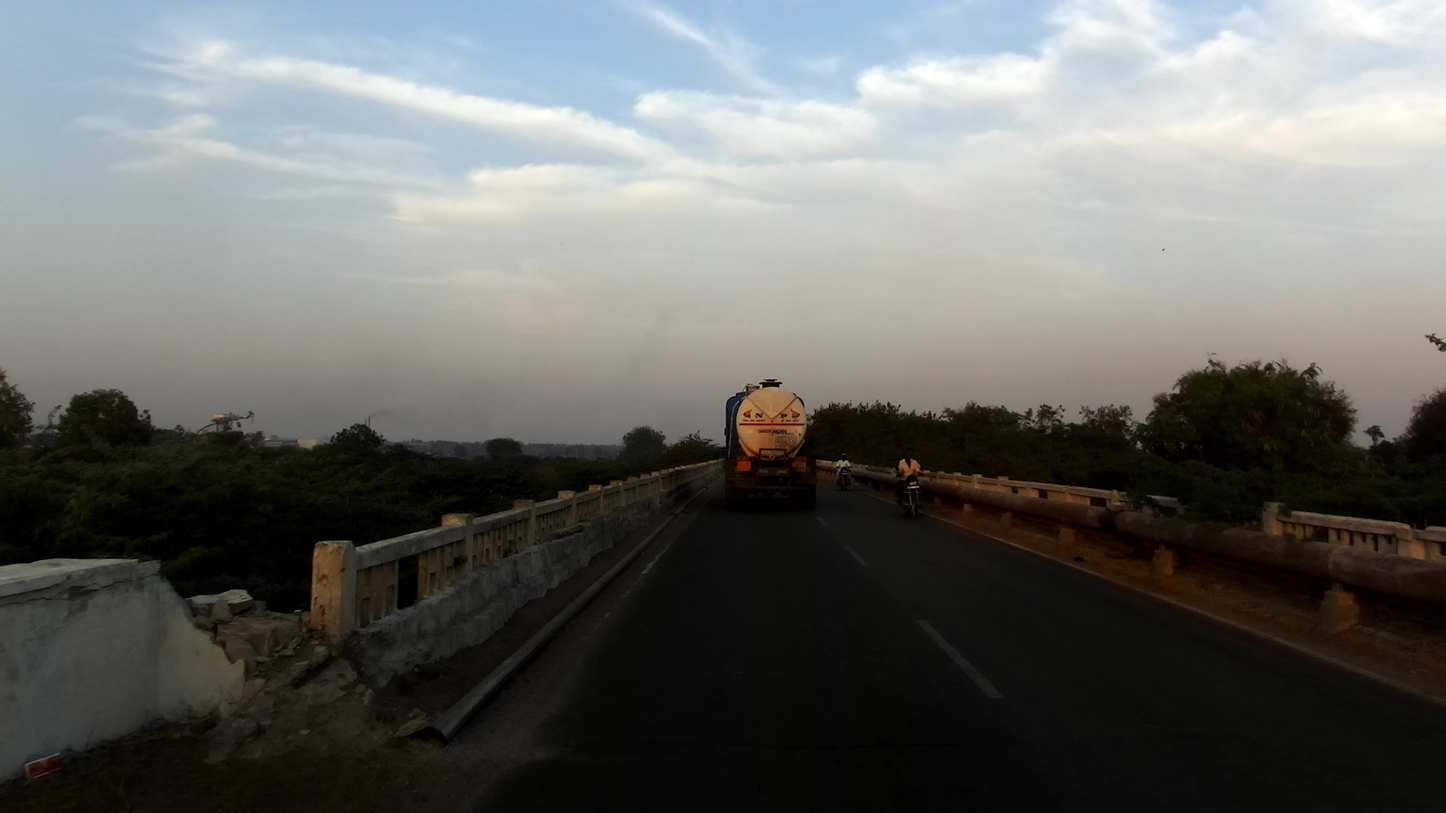motorcycle: (894, 473, 924, 521), (834, 464, 857, 495)
rider: (895, 449, 926, 512), (834, 451, 854, 487)
truck: (718, 377, 821, 513)
